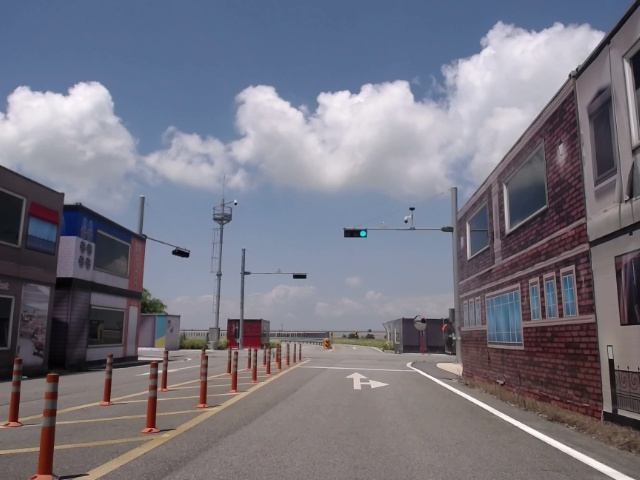green_3: (344, 229, 368, 236)
